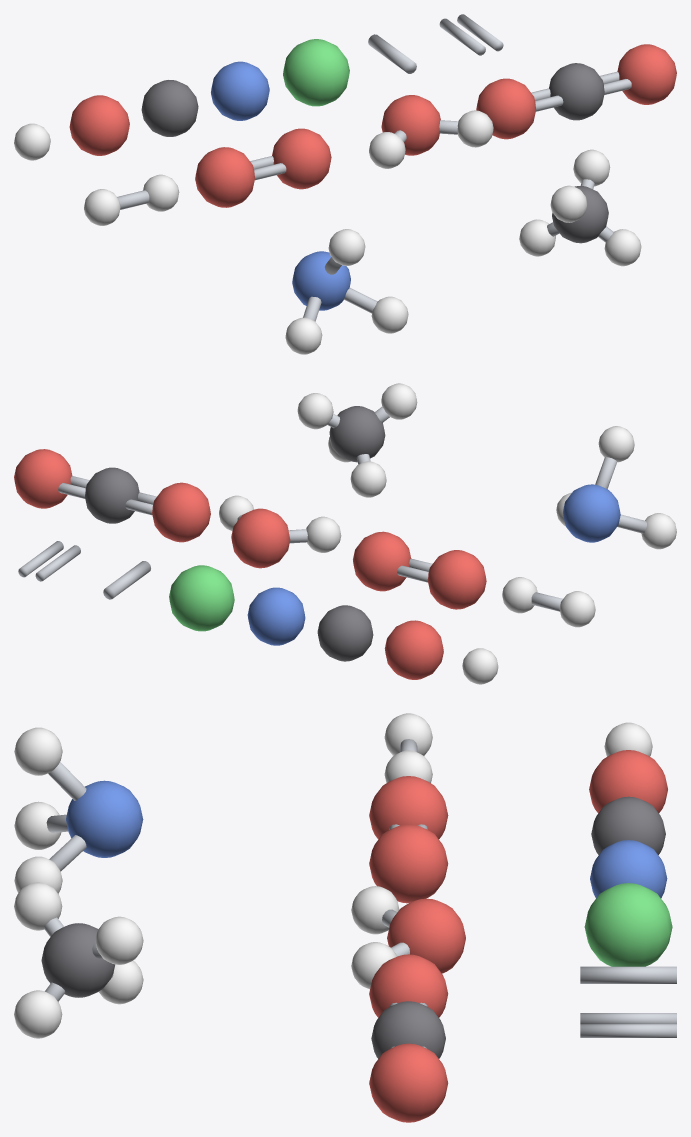
Rendered from molecule_kit.glb.
3 renders of one model, top to bottom at view 1: azimuth 30°, elevation 25°; view 2: azimuth 150°, elevation 25°; view 3: azimuth 270°, elevation 25°, orthographic. The views are drawn at different scales.
Parts seen in each view (by area): view 1: mol_co2, mol_nh3, mol_o2, mol_ch4, mol_h2o, atom_cl, atom_o, atom_n, atom_c, mol_h2, bond_double, atom_h (+1 smaller); view 2: mol_co2, mol_o2, mol_ch4, mol_nh3, mol_h2o, atom_cl, atom_o, atom_n, atom_c, mol_h2, bond_double, atom_h (+1 smaller); view 3: mol_co2, mol_ch4, mol_nh3, mol_o2, mol_h2o, atom_cl, atom_o, atom_n, atom_c, mol_h2, bond_double, bond_single (+1 smaller).
Part boxes in pixels (x1=…): mol_co2: x1=476, y1=44, x2=676, y2=139; mol_nh3: x1=285, y1=229, x2=408, y2=354; mol_o2: x1=195, y1=128, x2=331, y2=207; mol_ch4: x1=519, y1=149, x2=641, y2=266; mol_h2o: x1=369, y1=95, x2=493, y2=168; atom_cl: x1=283, y1=39, x2=349, y2=106; atom_o: x1=69, y1=95, x2=129, y2=155; atom_n: x1=211, y1=61, x2=269, y2=120; atom_c: x1=141, y1=80, x2=198, y2=136; mol_h2: x1=84, y1=174, x2=179, y2=225; bond_double: x1=439, y1=14, x2=503, y2=55; atom_h: x1=14, y1=123, x2=50, y2=160; mol_co2: x1=14, y1=449, x2=210, y2=542; mol_o2: x1=353, y1=531, x2=486, y2=609; mol_ch4: x1=297, y1=383, x2=417, y2=497; mol_nh3: x1=556, y1=426, x2=676, y2=549; mol_h2o: x1=219, y1=495, x2=341, y2=568; atom_cl: x1=169, y1=565, x2=234, y2=631; atom_o: x1=384, y1=620, x2=443, y2=679; atom_n: x1=247, y1=587, x2=305, y2=645; atom_c: x1=317, y1=605, x2=373, y2=661; mol_h2: x1=502, y1=577, x2=595, y2=627; bond_double: x1=18, y1=541, x2=80, y2=581; atom_h: x1=462, y1=648, x2=498, y2=684; mol_co2: x1=369, y1=954, x2=448, y2=1122; mol_ch4: x1=14, y1=882, x2=143, y2=1038; mol_nh3: x1=14, y1=727, x2=143, y2=893; mol_o2: x1=369, y1=776, x2=448, y2=903; mol_h2o: x1=351, y1=886, x2=465, y2=989; atom_cl: x1=584, y1=883, x2=672, y2=966; atom_o: x1=589, y1=750, x2=667, y2=813; atom_n: x1=590, y1=840, x2=667, y2=898; atom_c: x1=591, y1=796, x2=665, y2=854; mol_h2: x1=384, y1=713, x2=432, y2=782; bond_double: x1=580, y1=1013, x2=676, y2=1037; bond_single: x1=580, y1=966, x2=676, y2=983.
Bounding box in the file's own units: 2.01 × 0.365 × 1.51.
